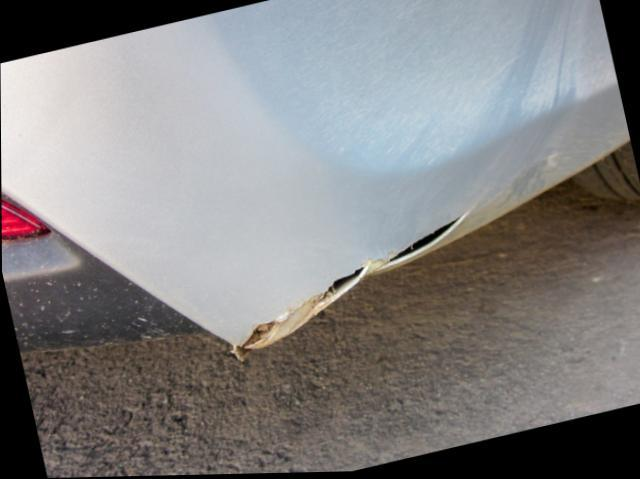crack: (236, 207, 473, 350)
